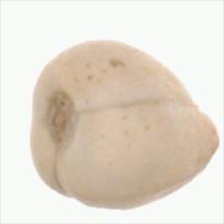L3: (184, 86, 219, 161)
L4: (29, 40, 219, 210)
